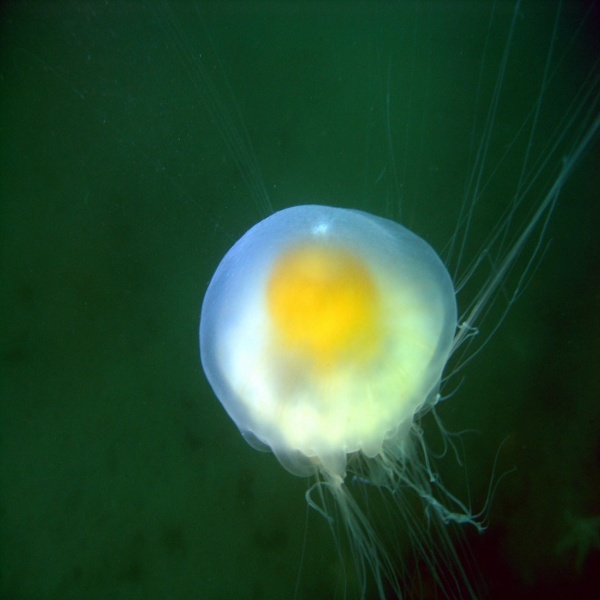Jellyfish: (195, 199, 483, 497)
